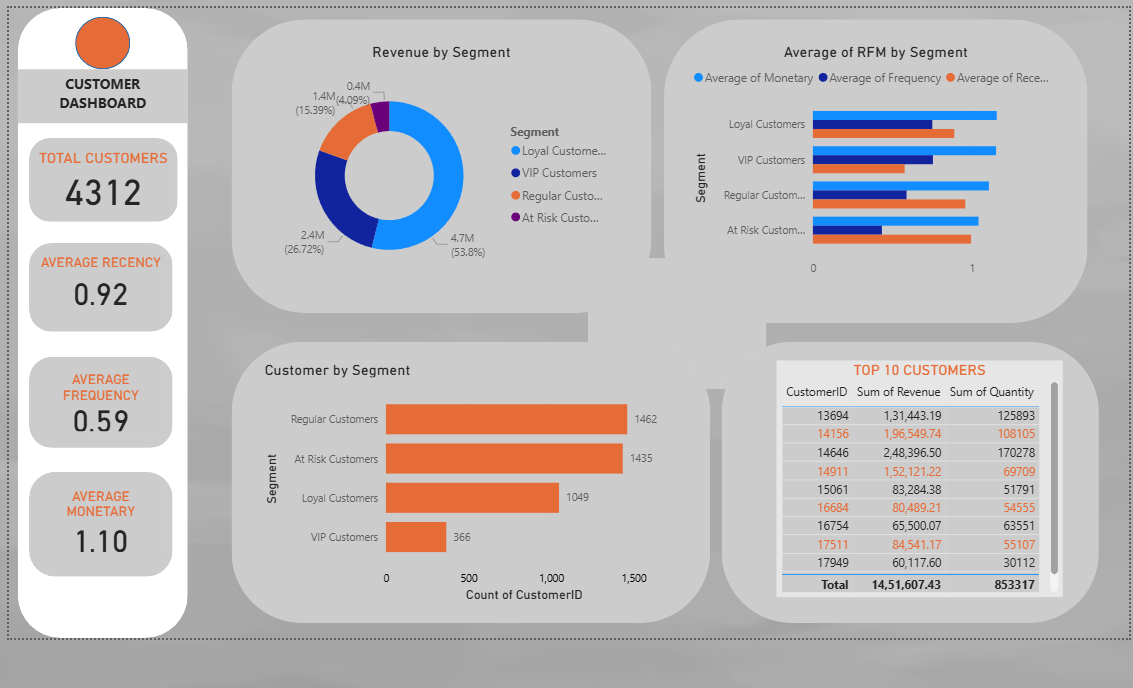

The dashboard page shown, as its layout file describes it:
{"tool":"powerbi","page":{"name":"CUSTOMER","canvas":[1280,720],"ordinal":3},"visuals":[{"type":"shape","box":[10,0,194.3,720],"z":0},{"type":"shape","box":[22.9,148.6,170,95.7],"z":1000},{"type":"shape","box":[22.9,268.6,164.3,101.4],"z":2000},{"type":"shape","box":[22.9,530,164.3,120],"z":3000},{"type":"shape","box":[22.9,398.6,164.3,104.3],"z":4000},{"type":"shape","box":[75.7,10,62.9,60],"z":5000},{"type":"textbox","box":[10,70,194.3,61.4],"z":6000},{"type":"card","title":"TOTAL CUSTOMERS","fields":{"Values":["CountNonNull(retail_segmentation customer_rfm.Segment)"]},"box":[28.6,161.4,158.6,71.4],"z":7000},{"type":"card","title":"AVERAGE RECENCY","fields":{"Values":["Avg(retail_segmentation customer_rfm.Recency)"]},"box":[28.6,281.4,152.9,67.1],"z":8000},{"type":"card","title":"AVERAGE FREQUENCY","fields":{"Values":["Avg(retail_segmentation customer_rfm.Frequency)"]},"box":[28.6,415.7,152.9,72.9],"z":9000},{"type":"card","title":"AVERAGE MONETARY","fields":{"Values":["Avg(retail_segmentation customer_rfm.Monetary)"]},"box":[28.6,548.6,152.9,81.4],"z":10000},{"type":"shape","box":[254.3,12.9,480,335.7],"z":11000},{"type":"shape","box":[748.6,12.9,484.3,347.1],"z":12000},{"type":"shape","box":[661.4,285.7,204.3,150],"z":13000},{"type":"shape","box":[254.3,381.4,547.1,321.4],"z":14000},{"type":"donutChart","title":"Revenue by Segment","fields":{"Category":["retail_segmentation customer_rfm.Segment"],"Y":["Sum(retail_segmentation cleaned_transactions.Revenue)"]},"box":[291.4,40,405.7,284.3],"z":15000},{"type":"barChart","title":"Customer by Segment","fields":{"Category":["retail_segmentation customer_rfm.Segment"],"Y":["CountNonNull(retail_segmentation customer_rfm.CustomerID)"]},"box":[287.1,402.9,480,281.4],"z":16000},{"type":"clusteredBarChart","title":"Average of RFM by Segment","fields":{"Category":["retail_segmentation customer_rfm.Segment"],"Y":["Avg(retail_segmentation customer_rfm.Monetary)","Avg(retail_segmentation customer_rfm.Frequency)","Avg(retail_segmentation customer_rfm.Recency)"]},"box":[777.1,40,427.1,275.7],"z":17000},{"type":"shape","box":[814.3,381.4,431.4,321.4],"z":18000},{"type":"tableEx","title":"TOP 10 CUSTOMERS","fields":{"Values":["retail_segmentation customer_rfm.CustomerID","Sum(retail_segmentation cleaned_transactions.Revenue)","Sum(retail_segmentation cleaned_transactions.Quantity)"]},"box":[877.1,402.9,327.1,270],"z":19000}]}

Visuals, with their boxes on the page's 1280x720 design canvas (x1, y1, x2, y2). These are canvas units, not pixel positions in the 1133x688 screenshot, which may show the page scaled, cropped or inside an application window:
shape: (10, 0, 204, 720)
shape: (23, 149, 193, 244)
shape: (23, 269, 187, 370)
shape: (23, 530, 187, 650)
shape: (23, 399, 187, 503)
shape: (76, 10, 139, 70)
textbox: (10, 70, 204, 131)
"TOTAL CUSTOMERS" card: (29, 161, 187, 233)
"AVERAGE RECENCY" card: (29, 281, 182, 348)
"AVERAGE FREQUENCY" card: (29, 416, 182, 489)
"AVERAGE MONETARY" card: (29, 549, 182, 630)
shape: (254, 13, 734, 349)
shape: (749, 13, 1233, 360)
shape: (661, 286, 866, 436)
shape: (254, 381, 801, 703)
"Revenue by Segment" donutChart: (291, 40, 697, 324)
"Customer by Segment" barChart: (287, 403, 767, 684)
"Average of RFM by Segment" clusteredBarChart: (777, 40, 1204, 316)
shape: (814, 381, 1246, 703)
"TOP 10 CUSTOMERS" tableEx: (877, 403, 1204, 673)
